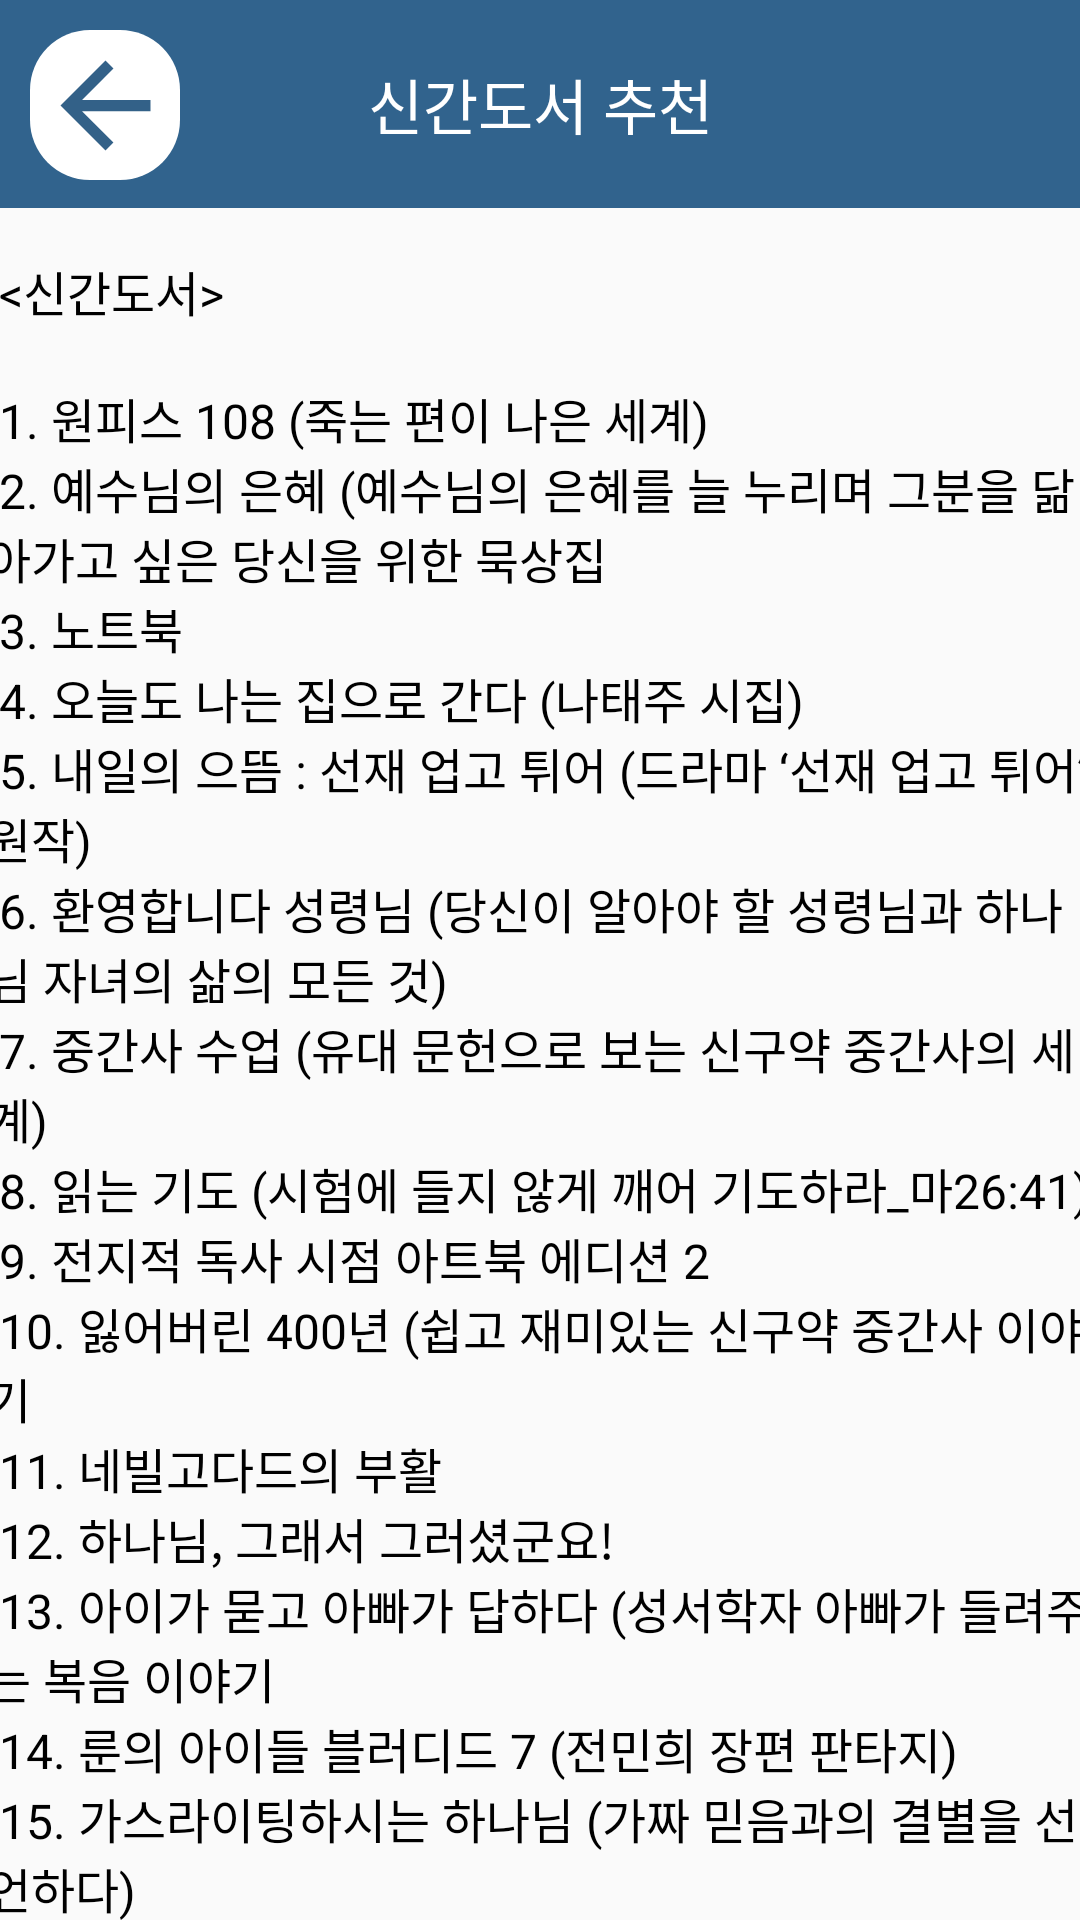

Named icons in this screenshot (1080px x 1920px) and their centers, [x,y]:
back: [105,105]
